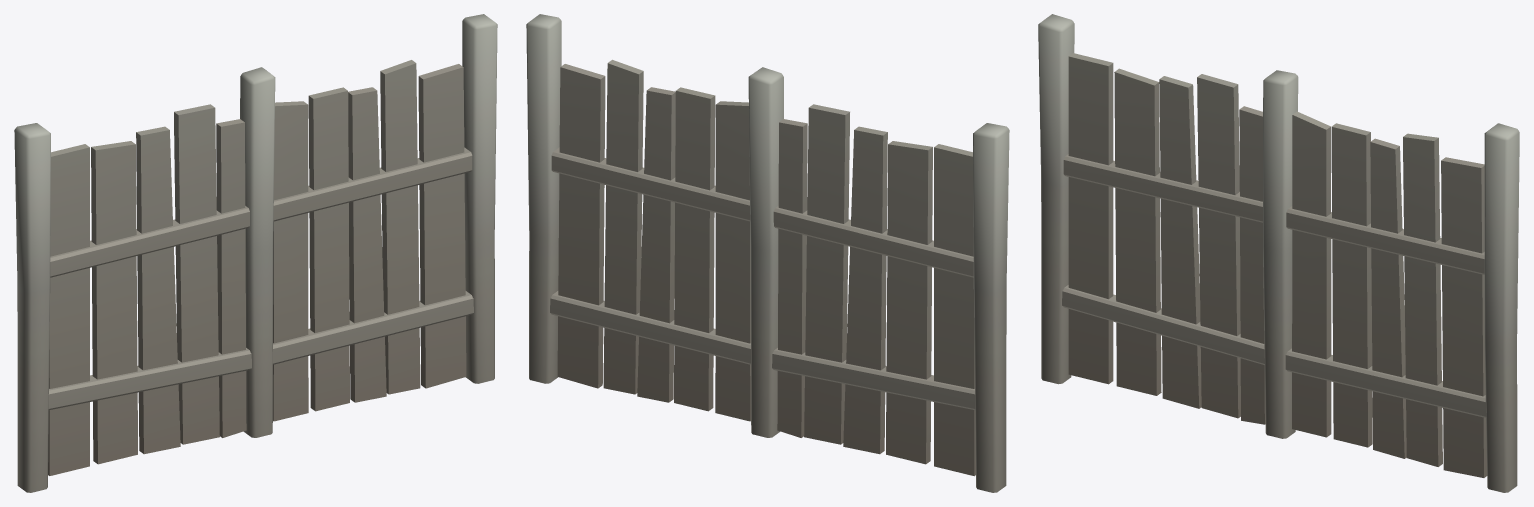
File: WallFence_2_1_B.glb
The picture shows the model from 3 angles, left to right: view 1: azimuth 30°, elevation 25°; view 2: azimuth 150°, elevation 25°; view 3: azimuth 330°, elevation 25°; orthographic projection.
Parts seen in each view (by area): view 1: WallFence_2_1_B; view 2: WallFence_2_1_B; view 3: WallFence_2_1_B.
Part boxes in pixels (x1=…): WallFence_2_1_B: x1=14, y1=14, x2=497, y2=492; WallFence_2_1_B: x1=526, y1=14, x2=1009, y2=492; WallFence_2_1_B: x1=1038, y1=14, x2=1519, y2=492.
Size of the model in its own units: 2.1 by 1.52 by 0.1127.
1 material, 1 textured.
